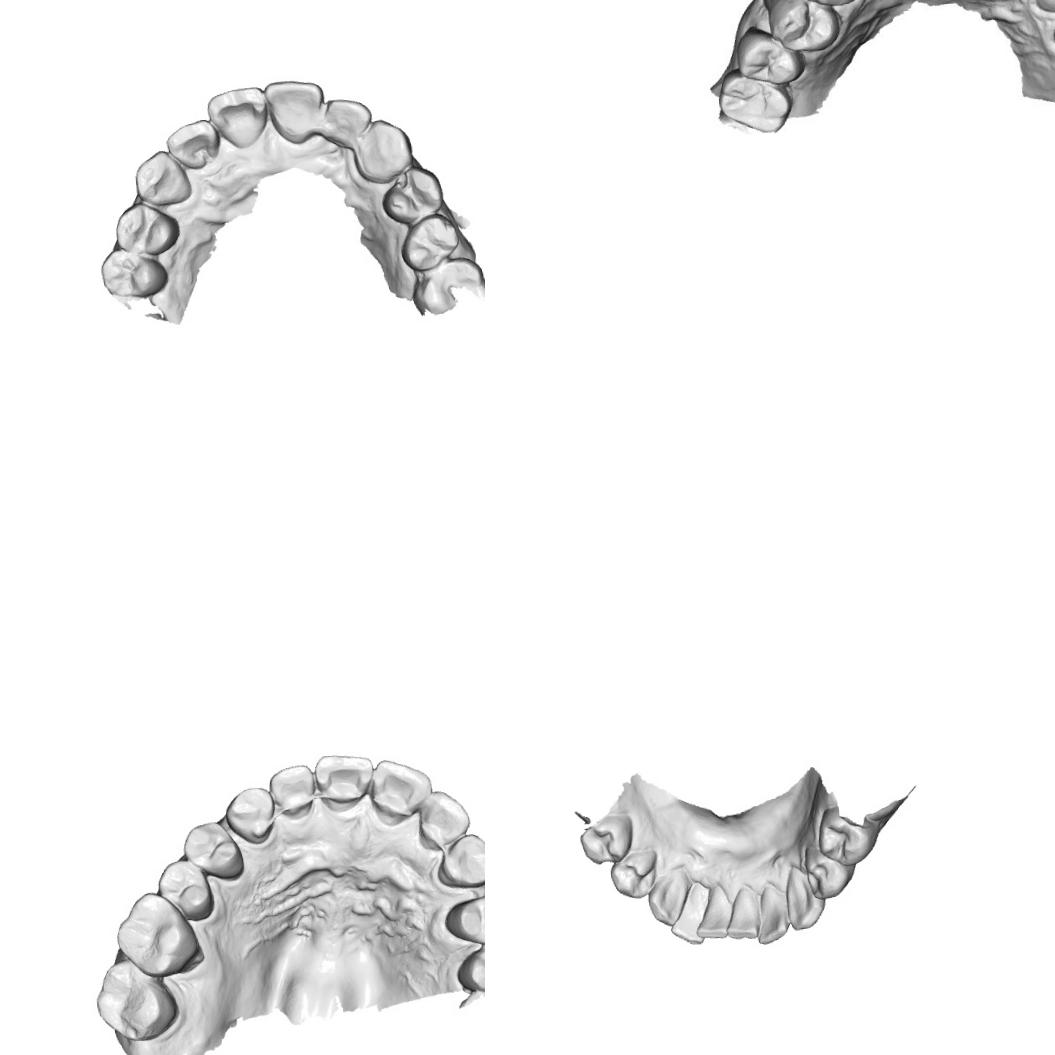canine: (350, 114, 416, 186), (130, 146, 195, 208), (780, 860, 828, 932), (222, 784, 276, 846), (643, 864, 694, 928), (432, 830, 485, 890)
incisor: (365, 754, 436, 827), (262, 74, 326, 147), (204, 84, 271, 152), (312, 750, 378, 815), (412, 786, 473, 853), (162, 113, 224, 173), (664, 879, 714, 948), (265, 761, 318, 823), (320, 94, 376, 148), (752, 878, 789, 946), (691, 883, 733, 941), (722, 882, 760, 943)
molar: (111, 887, 202, 982), (91, 953, 182, 1045), (713, 66, 794, 140), (410, 253, 485, 314)
premolar: (813, 800, 882, 868), (377, 162, 446, 228), (96, 242, 170, 302), (179, 817, 245, 884), (110, 198, 182, 258), (154, 856, 217, 924), (396, 210, 462, 274), (762, 0, 841, 51), (800, 836, 858, 902), (735, 29, 802, 84), (576, 809, 636, 866), (606, 844, 662, 902), (440, 891, 485, 948), (451, 939, 485, 995)
